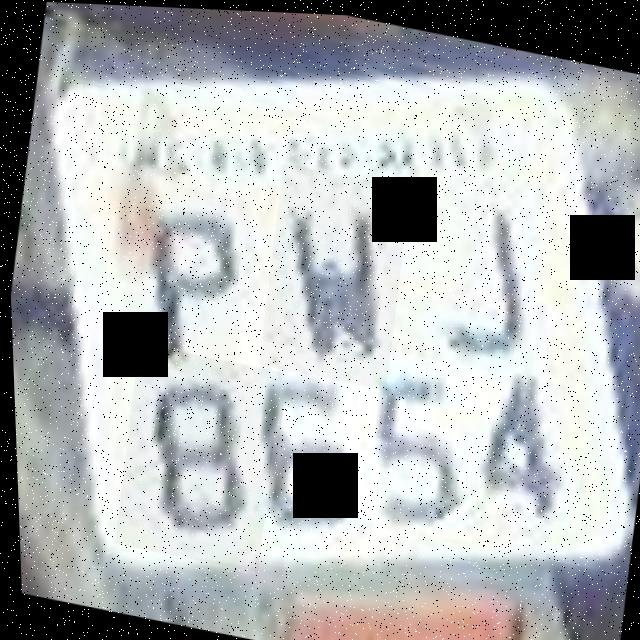4: (433, 324, 610, 554)
5: (325, 340, 501, 541)
6: (206, 333, 400, 573)
8: (105, 341, 285, 571)
J: (396, 163, 569, 373)
P: (109, 177, 258, 382)
W: (250, 160, 415, 388)
